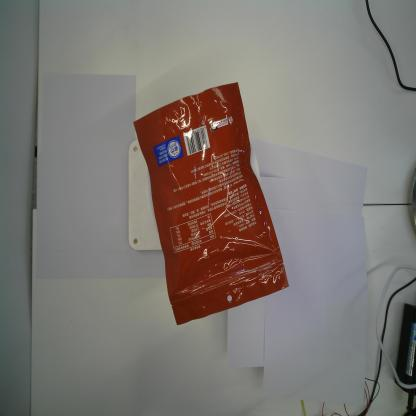Dried Food: (134, 81, 290, 327)
